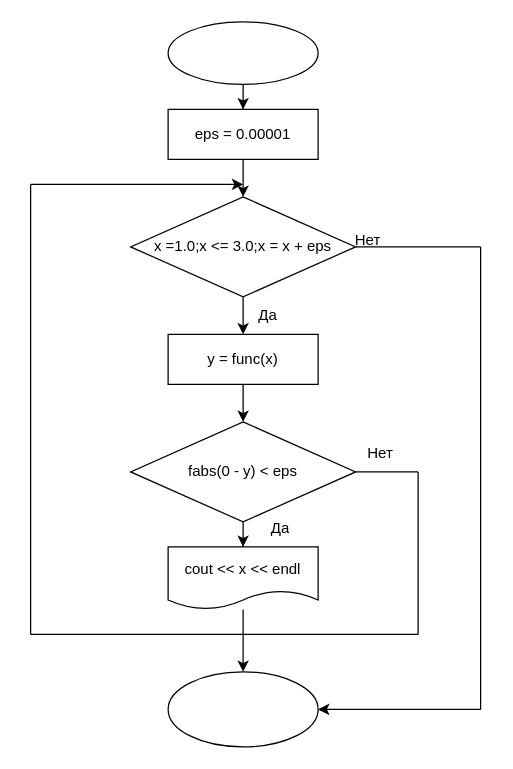
This 513x769 diagram has some shape labels left out. Each missing label, with the box of its shape:
Конец: (167, 671, 318, 747)
Начало: (167, 21, 318, 84)
